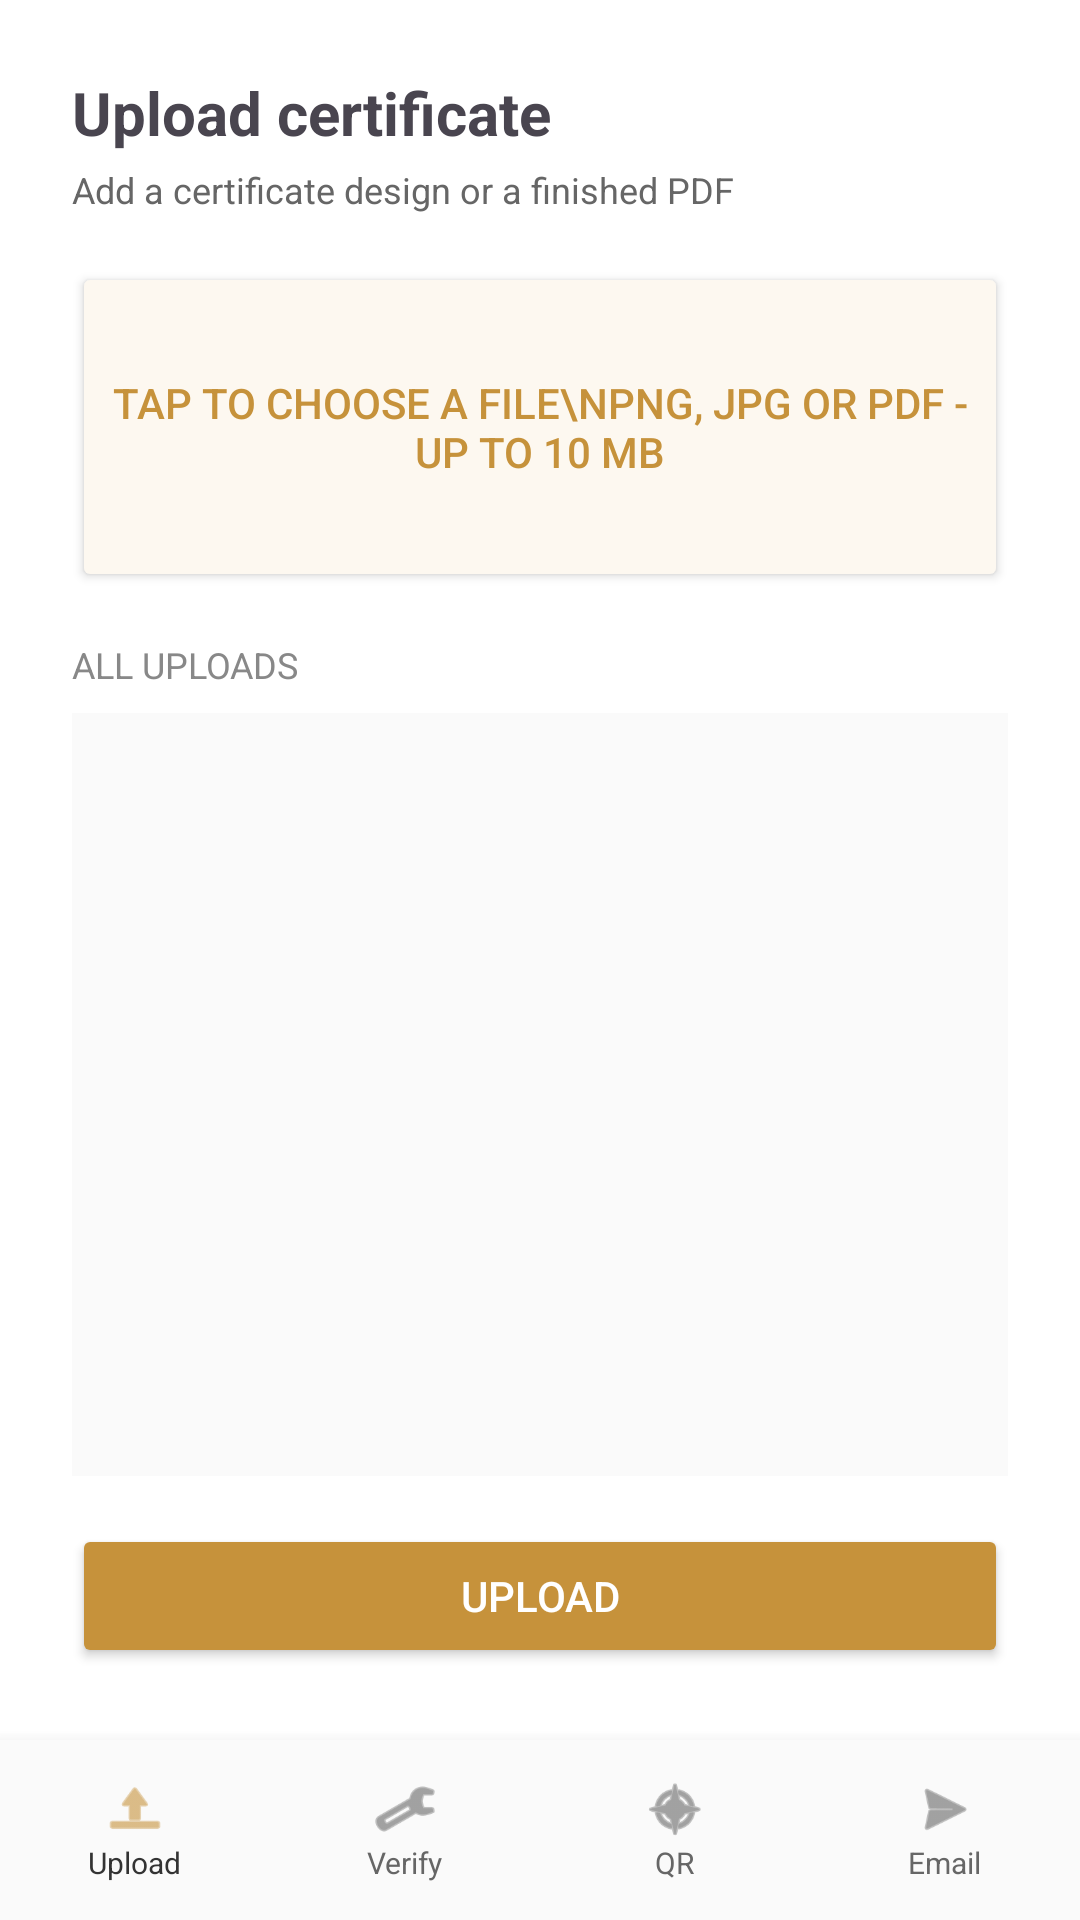

Icon bounding boxes for this 1080px×1920px phone screenshot, format (x1, y1, x2, y2):
manage: (375, 1786, 435, 1832)
send: (925, 1789, 967, 1830)
